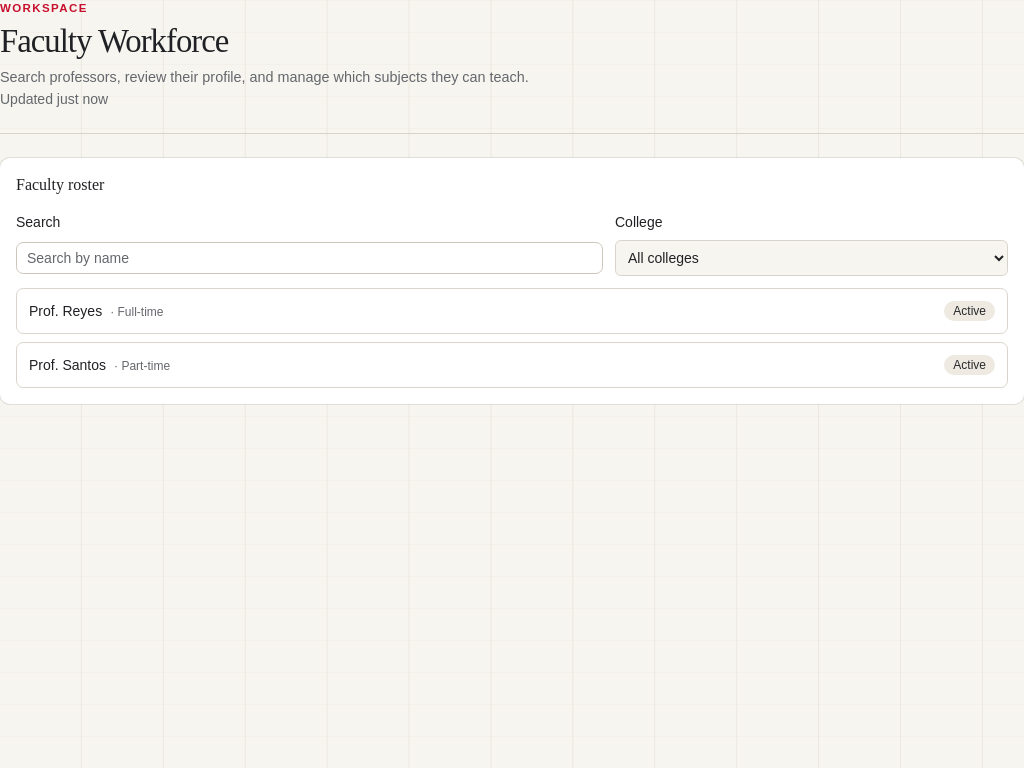
FacultyWorkforceWorkspace › does not show manage controls for a Registrar Head viewing the panel
Step 1. Click the text "Prof. Reyes" → (66, 311), box x1=29 y1=303 x2=102 y2=319
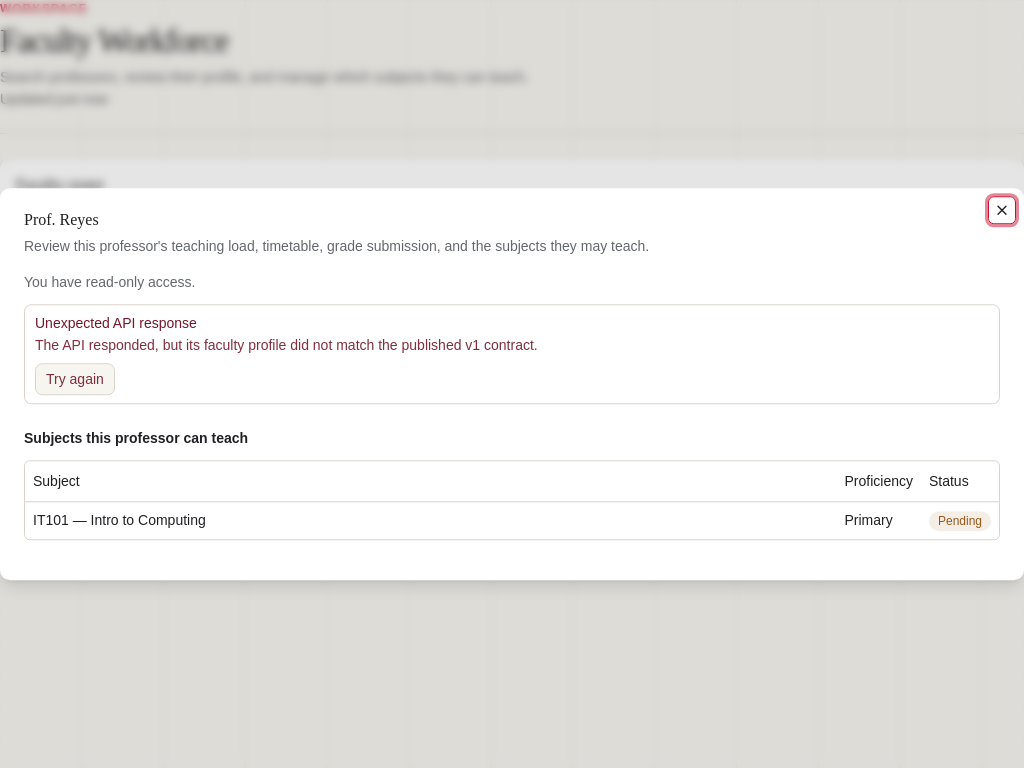
Expected: the text "IT101 — Intro to Computing" is shown, x1=25 y1=501 x2=836 y2=539
